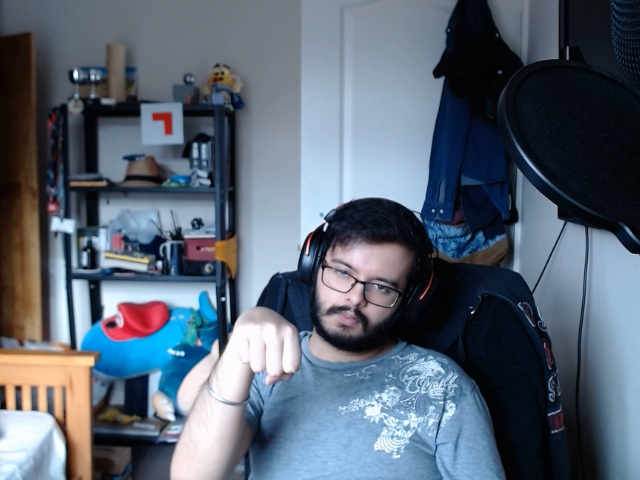Yes: (226, 299, 307, 385)
